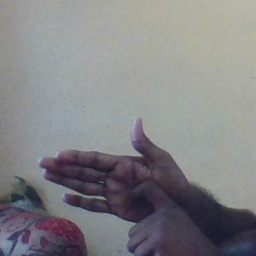R: (40, 117, 182, 254)
